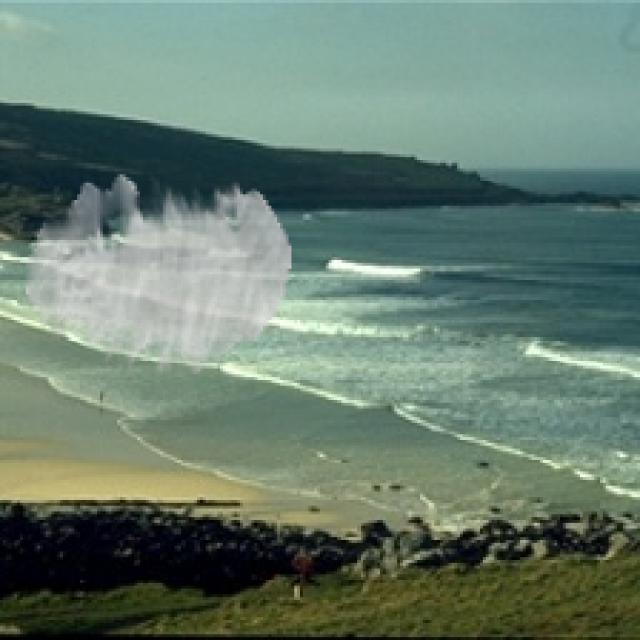smoke: (26, 174, 291, 377)
